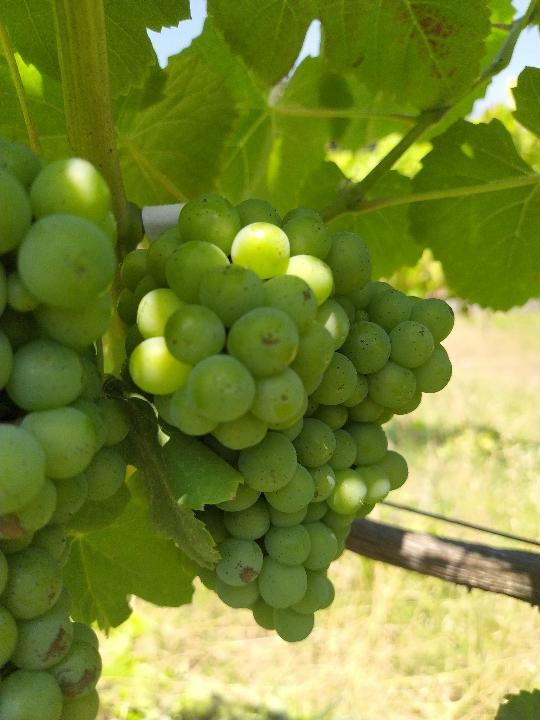grape: (115, 190, 455, 644)
